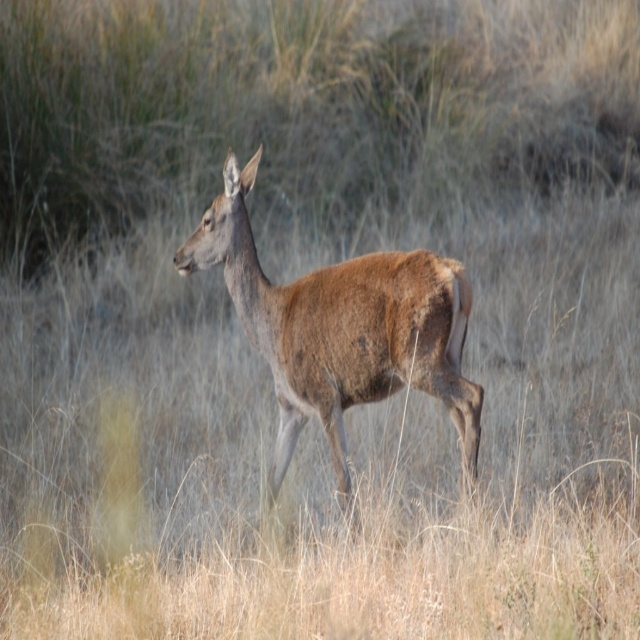Deer: (173, 142, 484, 542)
